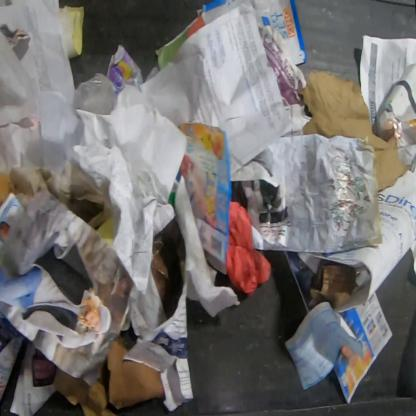cardboard: (297, 70, 410, 192), (107, 335, 166, 410), (52, 367, 120, 415), (310, 258, 359, 309)
soft_plastic: (71, 73, 117, 116)
